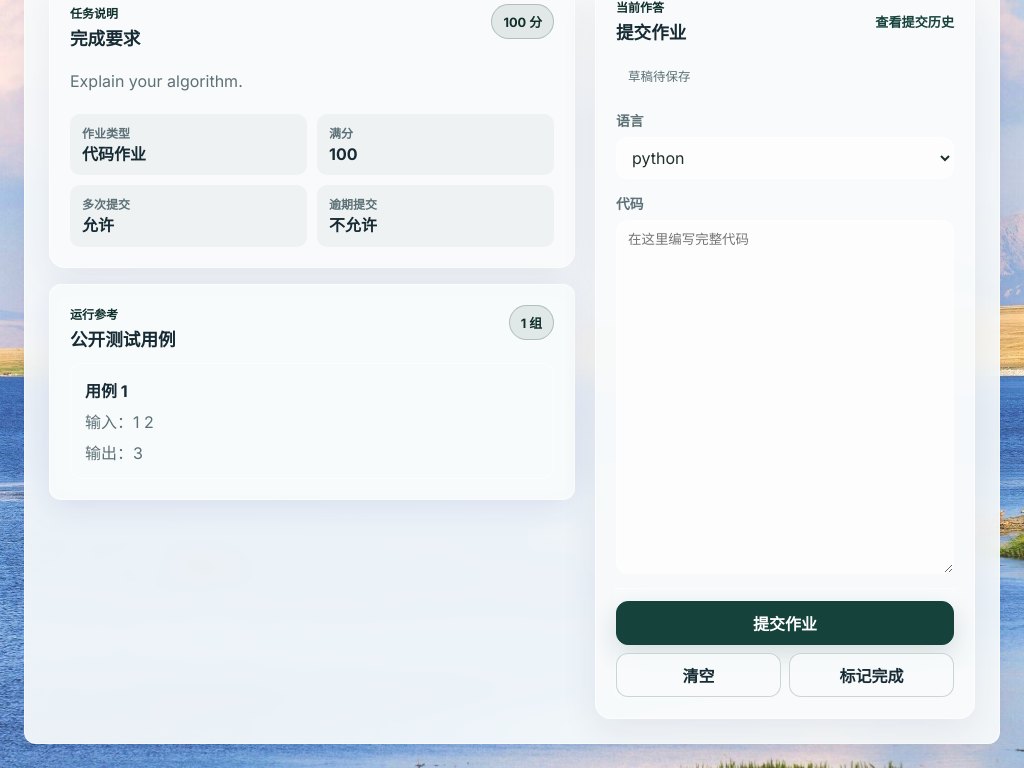
Test: HomeworkStudentView › submits the default language when code homework has a single configured language
(page scrolled)
Type "print(input())" into the text box named "codeText" at [785, 397], box [616,220,954,574]
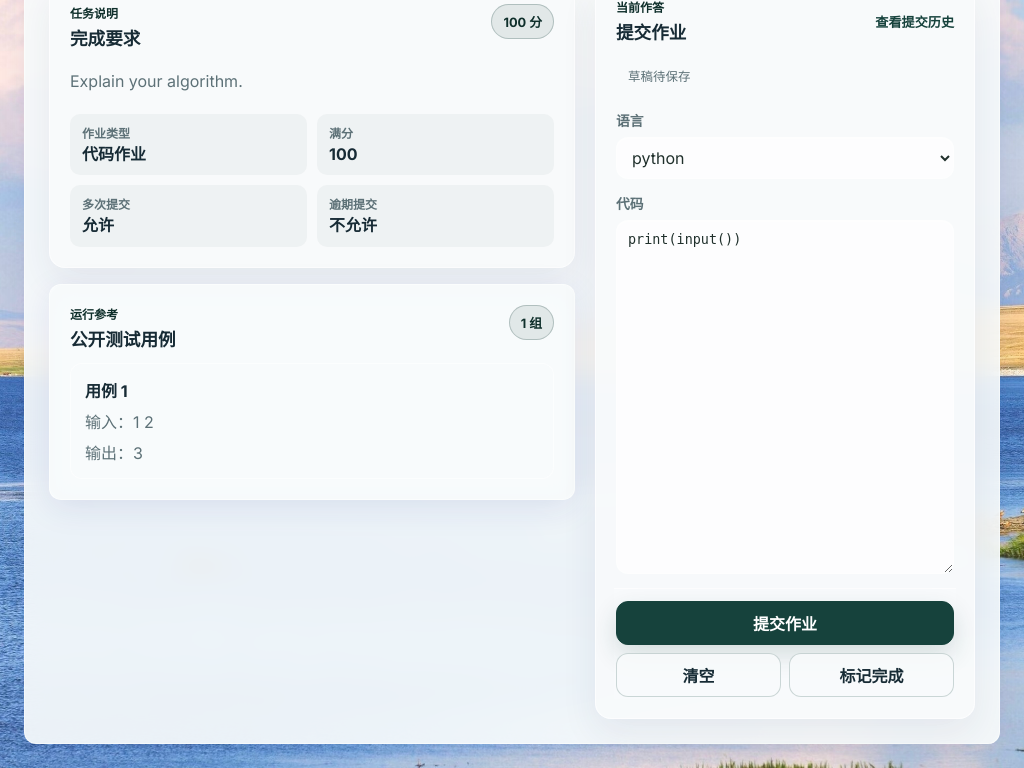
Submit the form, box [616,110,954,699]
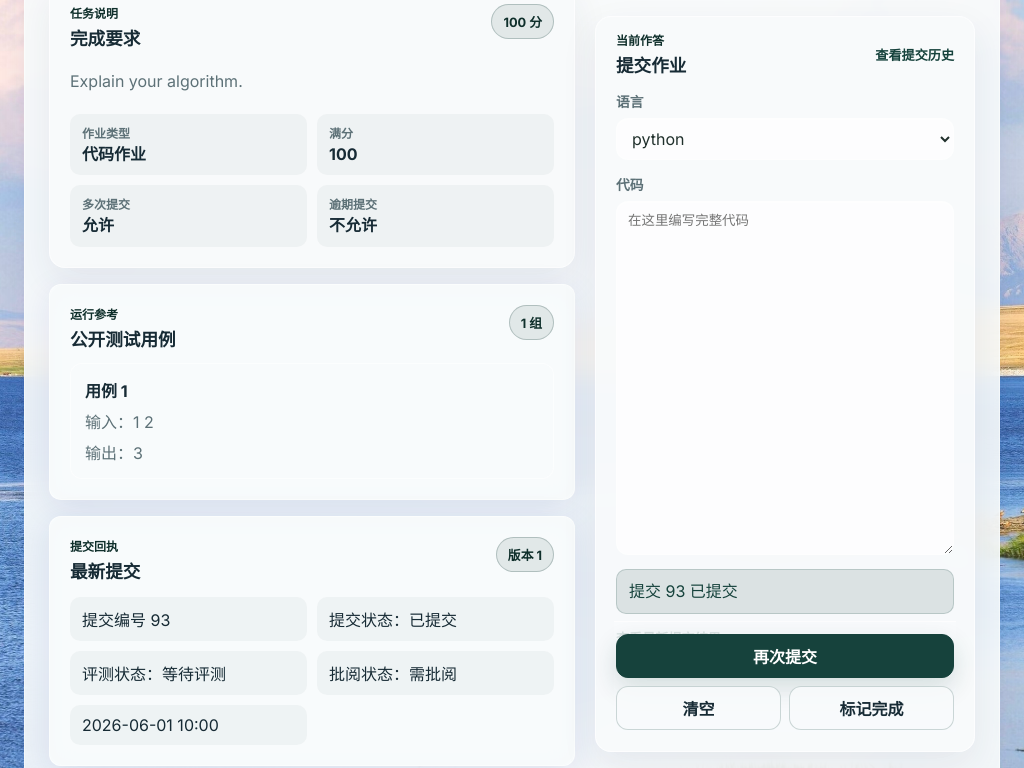
Now the text "评测状态：等待评测" is shown, box [70,651,307,695]
